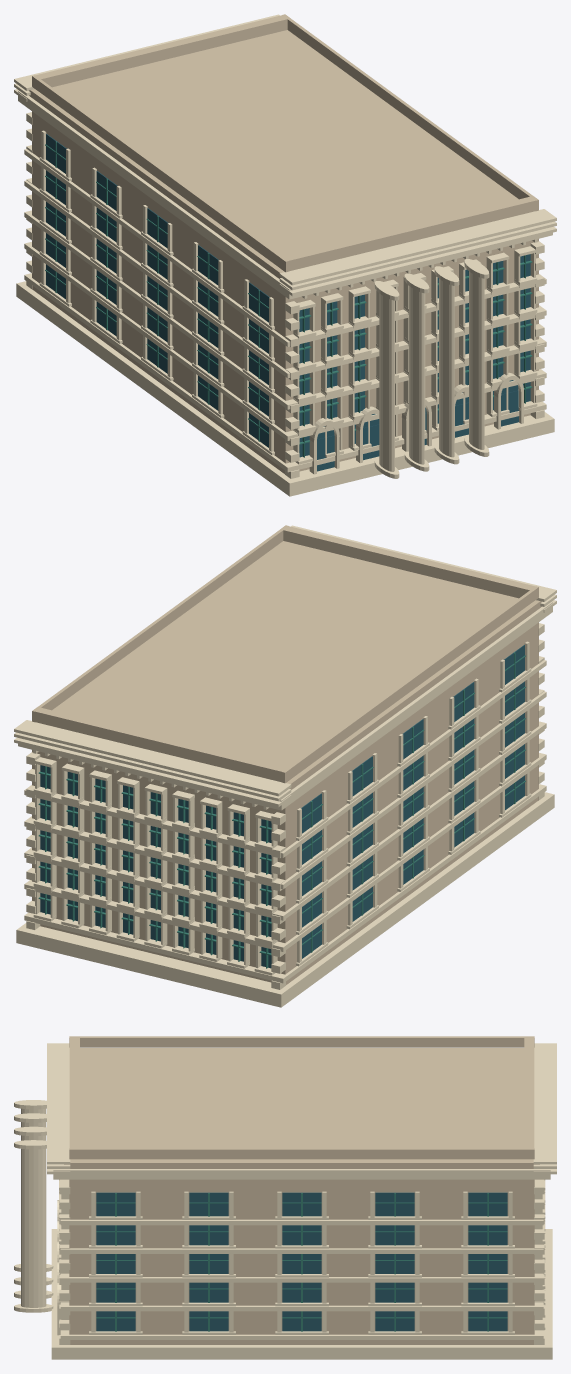
The model's file is chartered-bank.glb.
3 renders of one model, top to bottom at view 1: azimuth 30°, elevation 25°; view 2: azimuth 150°, elevation 25°; view 3: azimuth 270°, elevation 25°, orthographic. The views are drawn at different scales.
Visible parts, largest first — view 1: chartered-bank; view 2: chartered-bank; view 3: chartered-bank.
Part boxes in pixels (x1,y1,x2,y2): chartered-bank: [14, 14, 556, 496]; chartered-bank: [14, 525, 556, 1007]; chartered-bank: [14, 1036, 556, 1359].
Bounding box in the file's own units: 29.14 × 23.8 × 56.46.
